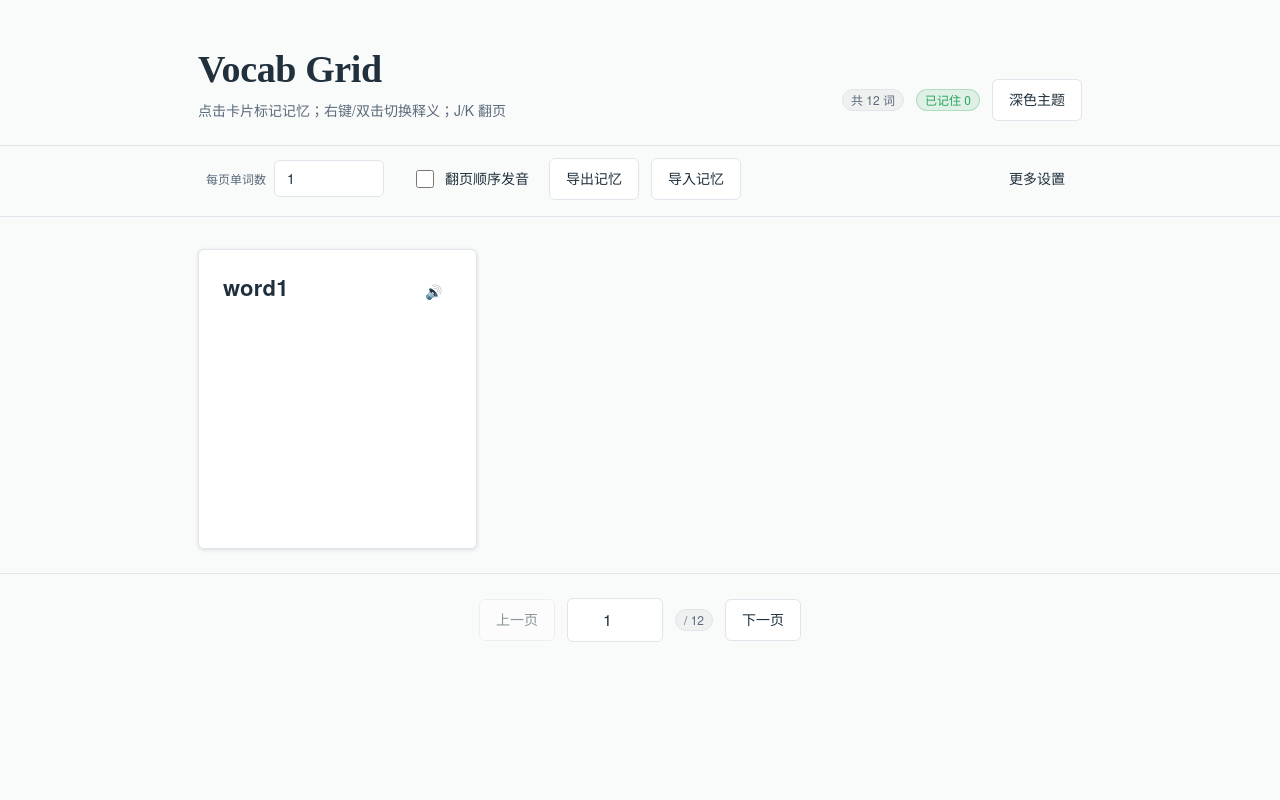
App UI logic › toggles remembered state on click
The image size is (1280, 800).
Expected: the text "word1" is shown, [223,271,289,303]
Click the text "word1".
click(337, 399)  # box [198,249,477,549]
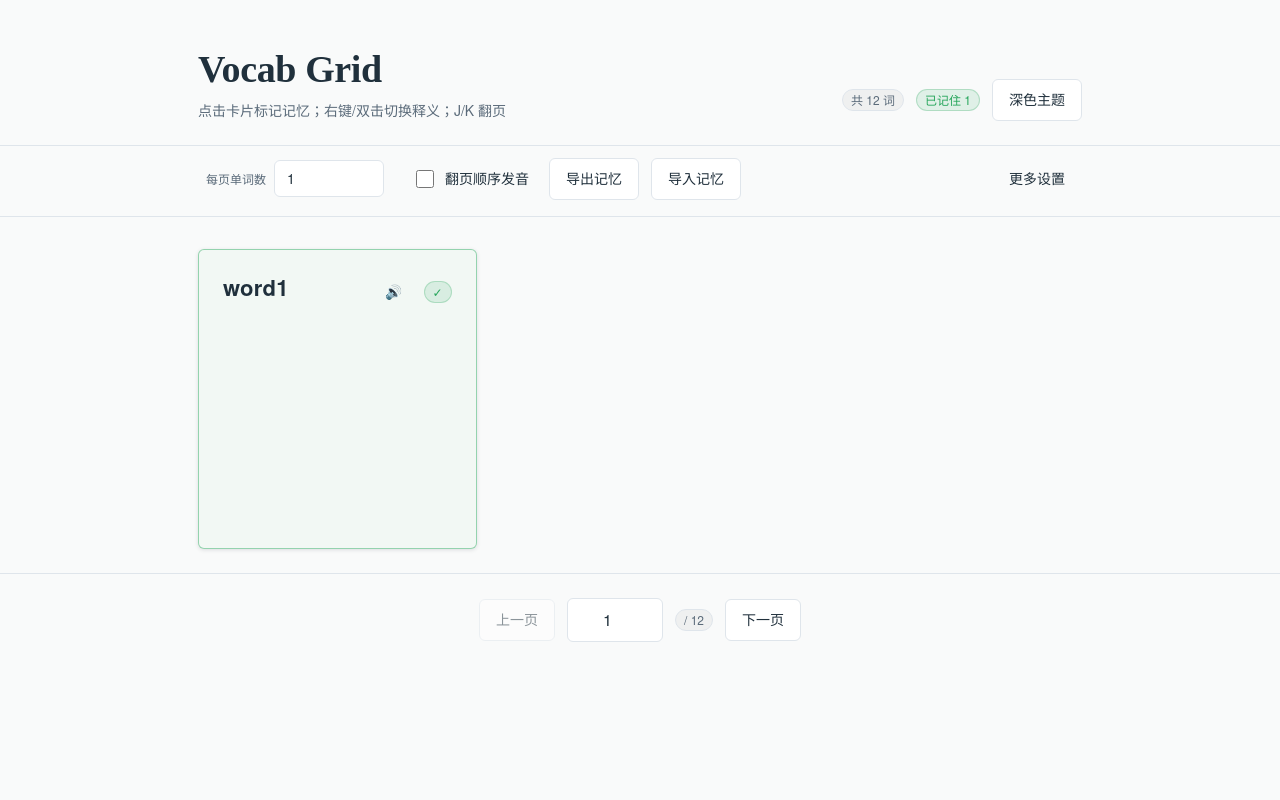
Expected: the text "✓" is shown, [424,281,452,303]
Click the text "word1".
click(337, 399)  # box [198,249,477,549]
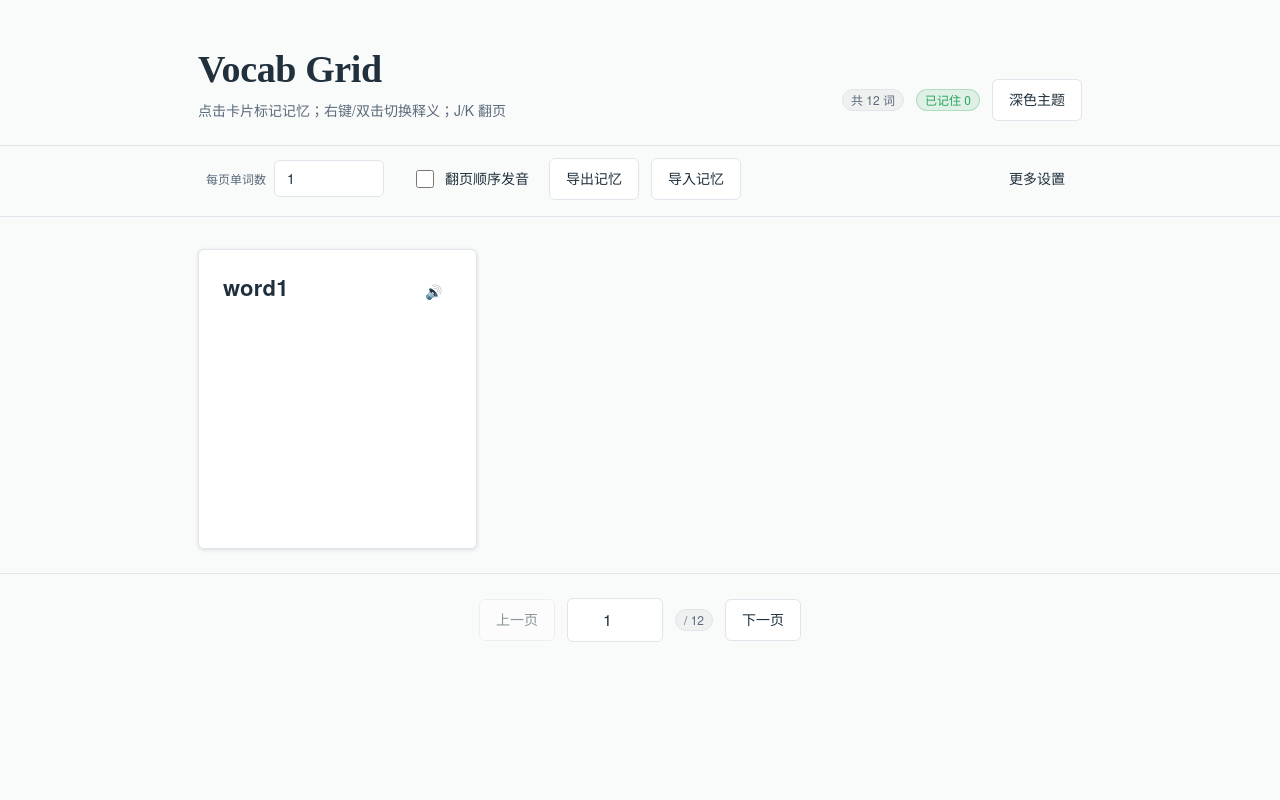
Expected: the text "✓" is gone
